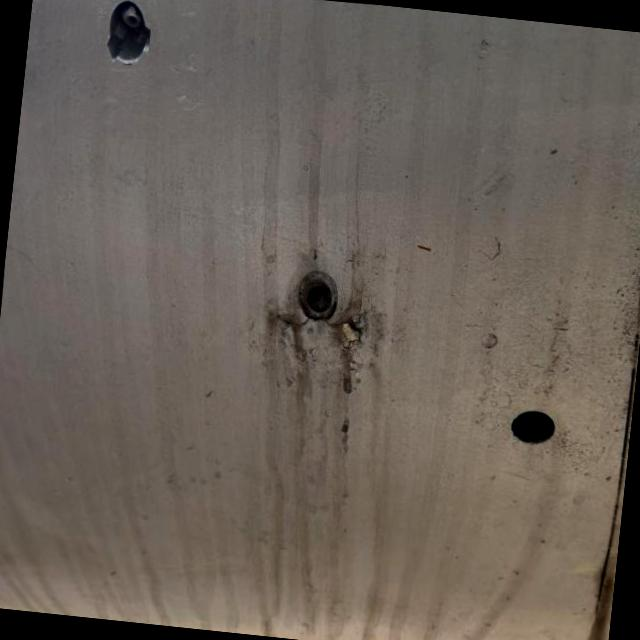Missing Fastener: (101, 0, 160, 68), (501, 400, 569, 458), (296, 268, 338, 319)
